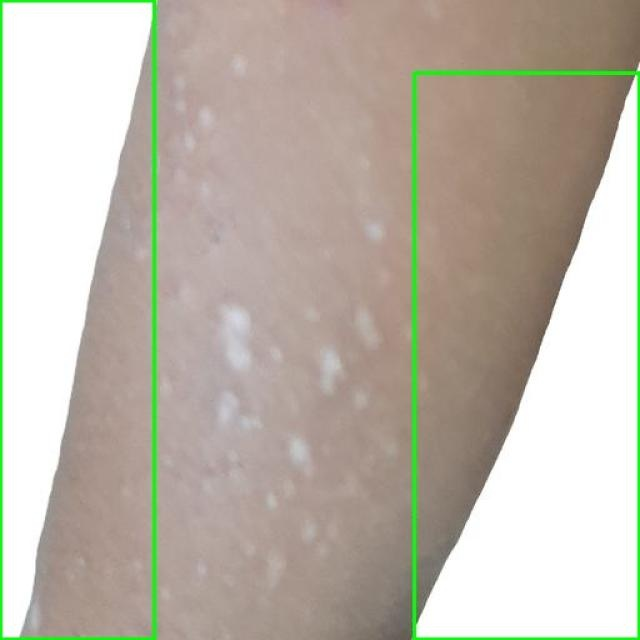Scabies: (414, 72, 639, 639), (0, 0, 154, 639)
